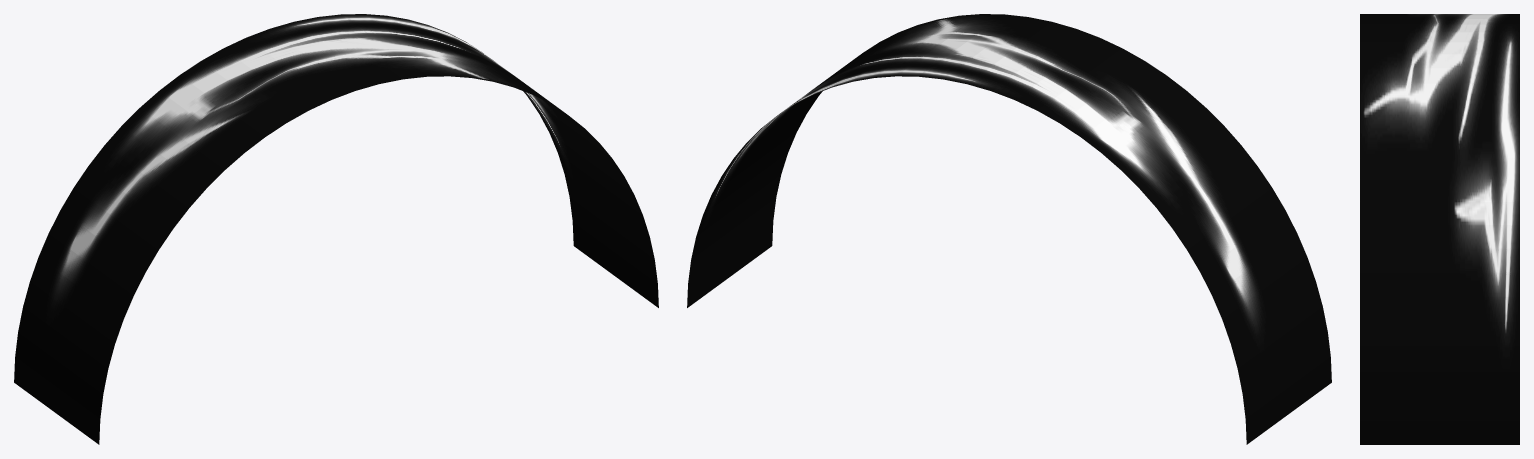
The model's file is 0118_QIBOPIAN.glb.
3 renders of one model, left to right at view 1: azimuth 30°, elevation 25°; view 2: azimuth 150°, elevation 25°; view 3: azimuth 270°, elevation 25°, orthographic. The views are drawn at different scales.
Bounding box in the file's own units: 2.2 × 1.1 × 0.5804.
Materials: 1 (1 with a texture image).
